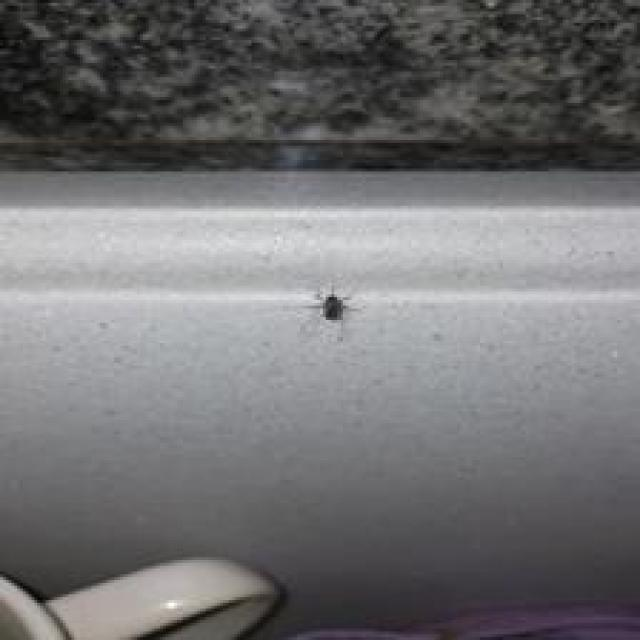Aedes albopictus: (314, 286, 352, 320)
